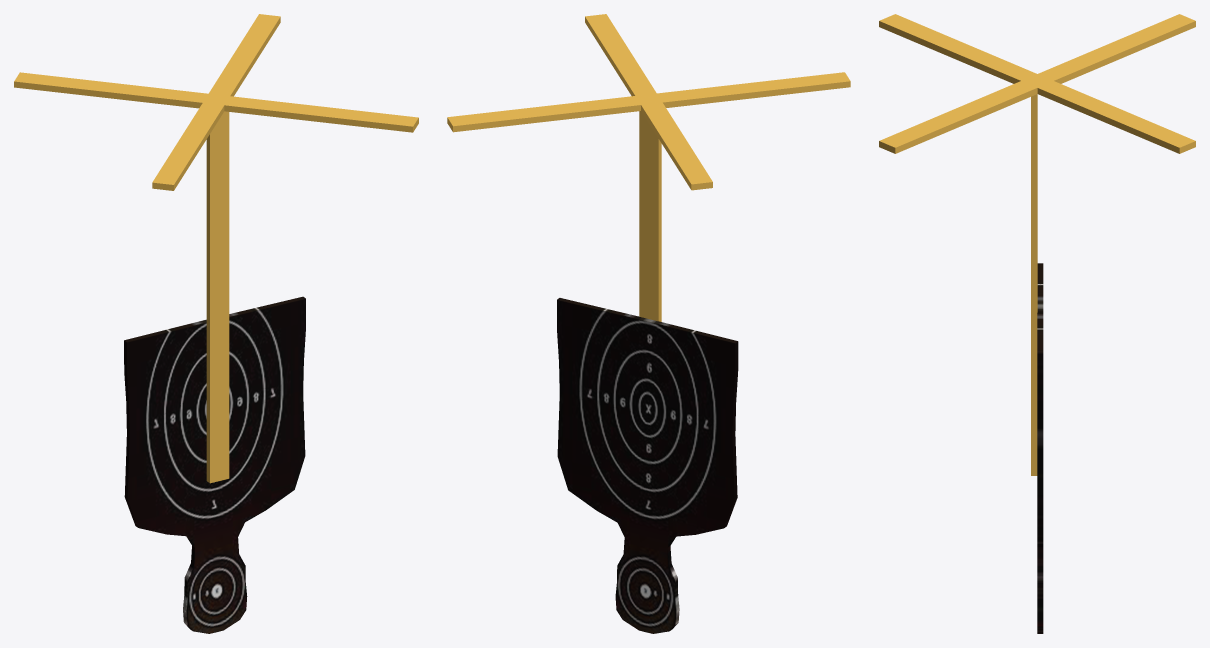
File: Target.fbx
The picture shows the model from 3 angles, left to right: view 1: azimuth 30°, elevation 25°; view 2: azimuth 150°, elevation 25°; view 3: azimuth 270°, elevation 25°; orthographic projection. The views are drawn at different scales.
Visible parts, largest first — view 1: polySurface4; view 2: polySurface4; view 3: polySurface4.
Boxes of the visible parts, box(x1,y1,x2,y2) form: polySurface4: box(14, 14, 418, 633); polySurface4: box(447, 14, 850, 633); polySurface4: box(879, 14, 1195, 633).
Bounding box in the file's own units: 134 × 256 × 134.
1 material, 1 textured.
